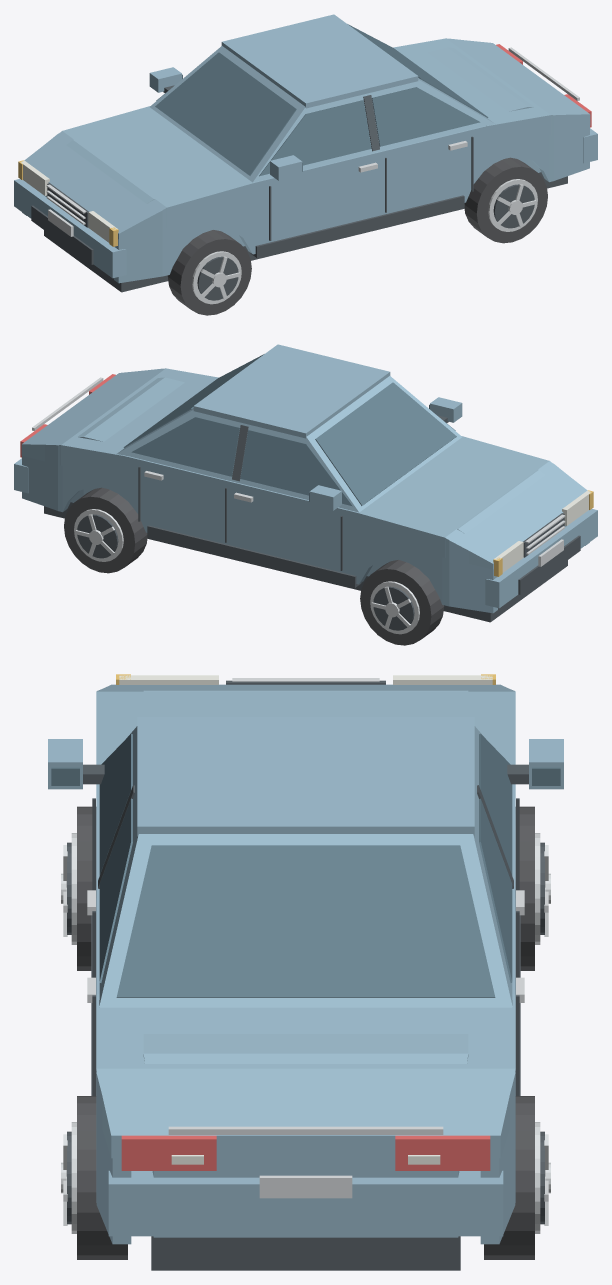
The model's file is regular-car.glb.
The picture shows the model from 3 angles, top to bottom: view 1: azimuth 30°, elevation 25°; view 2: azimuth 150°, elevation 25°; view 3: azimuth 270°, elevation 25°; orthographic projection. The views are drawn at different scales.
Parts seen in each view (by area): view 1: hood, roof, windshield, trunk, closed_cabin, front_door_glass_-1, rear_door_glass_-1, central_body, tire_-1.36_-1, tire_1.38_-1, sill_-1, front_bumper (+48 smaller); view 2: hood, roof, windshield, trunk, closed_cabin, front_door_glass_1, rear_door_glass_1, central_body, tire_-1.36_1, tire_1.38_1, sill_1, front_bumper (+56 smaller); view 3: rear_windshield, trunk, roof, rear_bumper, central_body, closed_cabin, hood, sealed_underbody, tire_1.38_-1, tire_1.38_1, tail_lamp_-1, tail_lamp_1 (+16 smaller).
Part boxes in pixels (x1,y1,x2,y2): hood: (24,106,253,239); roof: (221,14,418,108); windshield: (155,52,296,175); trunk: (393,38,590,147); closed_cabin: (150,46,494,182); front_door_glass_-1: (259,100,371,176); rear_door_glass_-1: (372,87,480,146); central_body: (45,47,540,246); tire_-1.36_-1: (167,230,251,315); tire_1.38_-1: (464,157,547,243); sill_-1: (250,195,464,257); front_bumper: (14,179,126,278); hood: (358,436,587,569); roof: (193,344,390,438); windshield: (315,382,456,505); trunk: (21,368,218,477); closed_cabin: (117,376,461,512); front_door_glass_1: (240,430,352,506); rear_door_glass_1: (131,417,239,476); central_body: (71,377,566,576); tire_-1.36_1: (360,560,444,645); tire_1.38_1: (64,487,147,573); sill_1: (147,525,361,587); front_bumper: (485,509,597,608); rear_windshield: (116,845,495,997); trunk: (96,997,515,1158); roof: (137,717,474,836); rear_bumper: (108,1170,503,1236); central_body: (143,690,468,1237); closed_cabin: (99,726,512,1007); hood: (96,684,515,764); sealed_underbody: (151,1236,460,1270); tire_1.38_-1: (77,1096,127,1259); tire_1.38_1: (484,1096,534,1259); tail_lamp_-1: (121,1135,216,1170); tail_lamp_1: (395,1135,490,1170).
Bounding box in the file's own units: 4.55 × 1.54 × 2.07.
